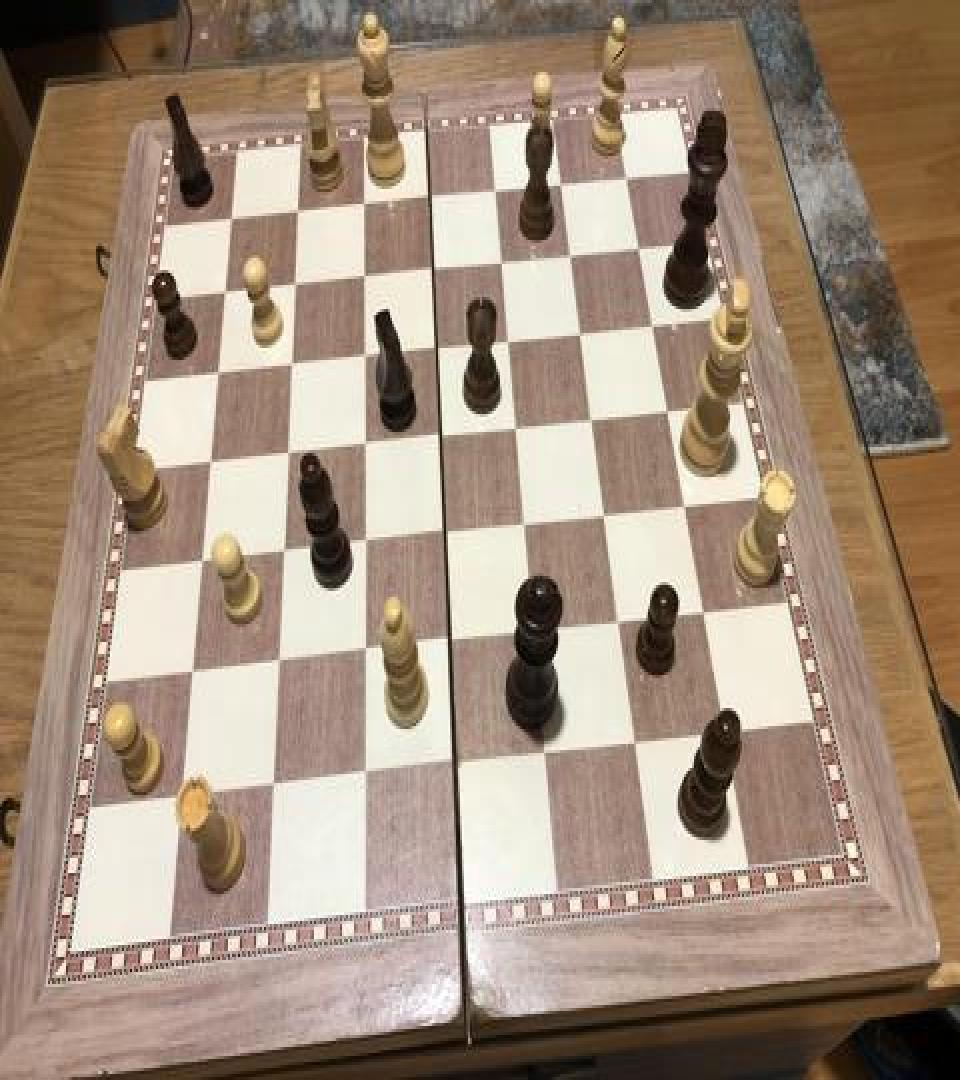xcorner: (432, 514, 456, 551), (190, 544, 214, 581), (712, 712, 736, 749), (260, 769, 284, 806), (615, 154, 639, 190), (550, 164, 574, 200), (484, 171, 508, 207), (418, 178, 442, 214), (352, 186, 376, 222), (287, 194, 311, 230), (221, 201, 245, 237), (627, 226, 651, 262), (559, 234, 583, 270), (490, 242, 514, 278), (421, 250, 445, 286), (352, 258, 376, 294), (283, 267, 307, 303), (214, 274, 238, 310), (641, 304, 665, 340), (569, 312, 593, 348), (497, 321, 521, 357), (424, 330, 448, 366), (352, 338, 376, 374), (279, 346, 303, 382), (207, 356, 231, 392), (656, 390, 680, 426), (580, 399, 604, 435), (504, 408, 528, 444), (428, 417, 452, 453), (352, 426, 376, 462), (275, 435, 299, 471), (199, 444, 223, 480), (672, 486, 696, 522), (592, 495, 616, 531), (512, 506, 536, 542), (351, 525, 375, 561), (271, 534, 295, 570), (691, 592, 715, 628), (606, 603, 630, 639), (521, 614, 545, 650), (436, 624, 460, 660), (351, 634, 375, 670), (266, 645, 290, 681), (180, 656, 204, 692), (622, 724, 646, 760), (532, 735, 556, 771), (441, 747, 465, 783), (351, 758, 375, 794), (169, 780, 193, 816)
